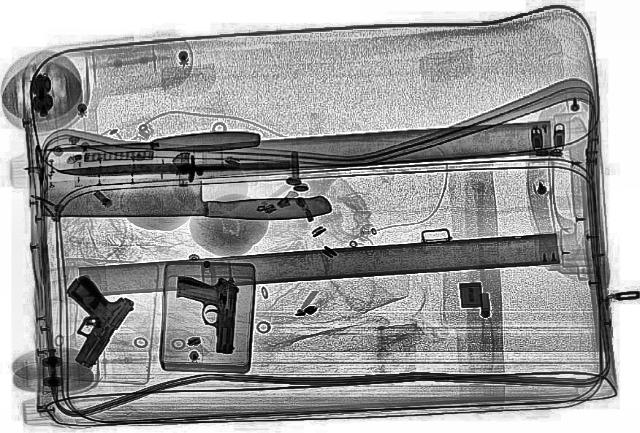Gun: (26, 271, 144, 367), (172, 274, 238, 354)
Knife: (37, 172, 330, 224), (36, 130, 260, 156), (59, 158, 289, 176)
